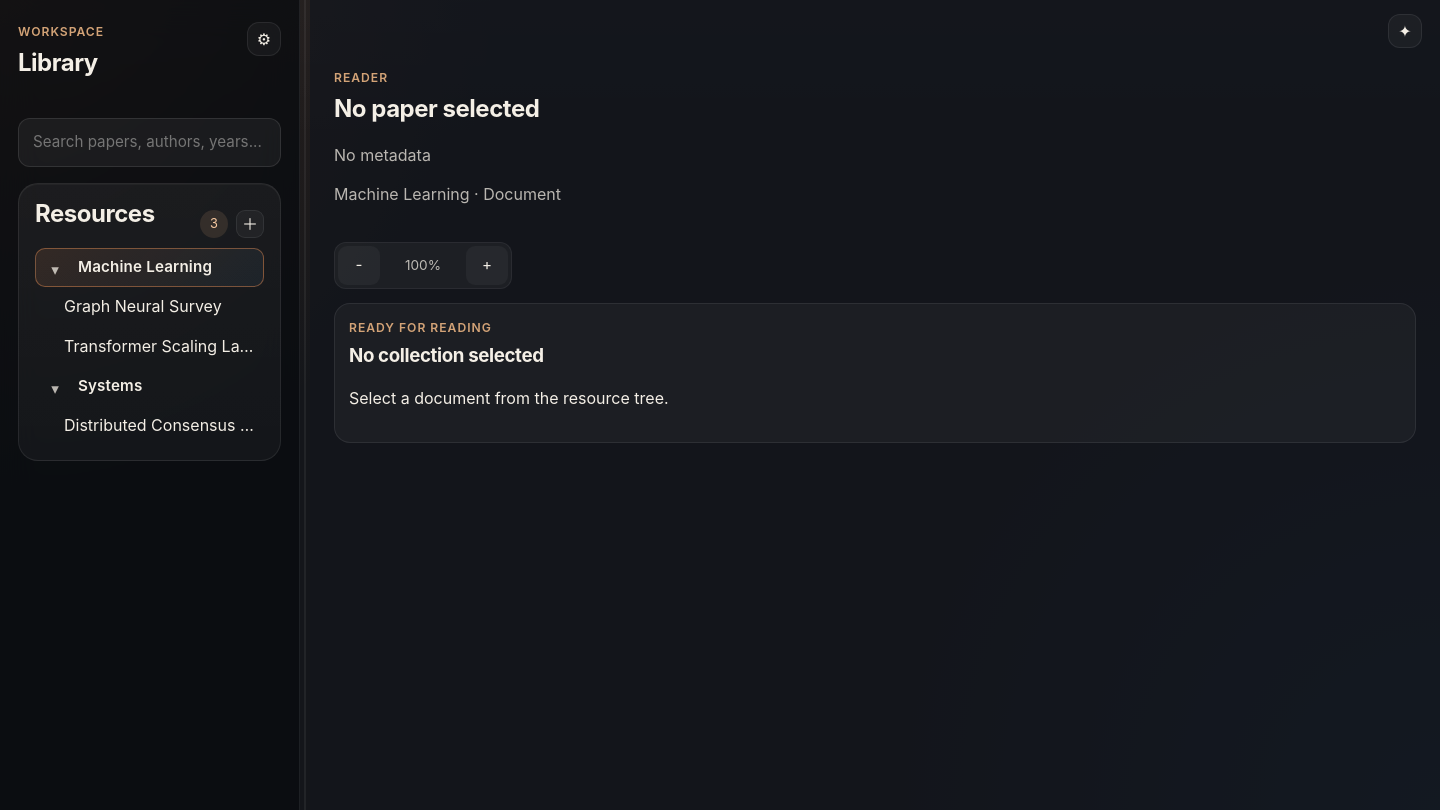
Test case: App reading workspace › renders quick actions in the dock and appends them to the AI chat history
Click the list item "Transformer Scaling Laws".
click(150, 346)  # box [35,327,264,365]
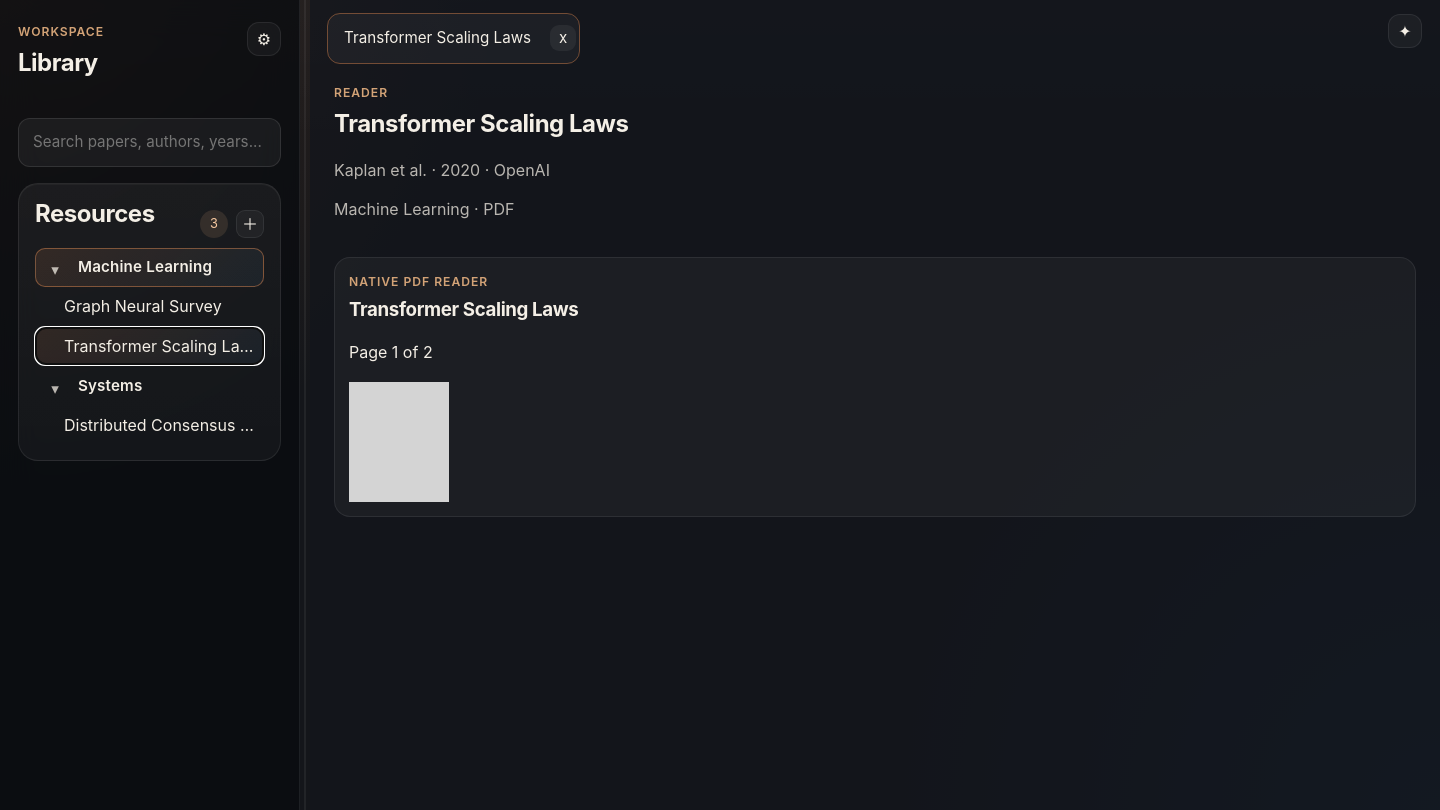
Click the button named "Open AI panel".
click(1405, 31)  # box [1388,14,1422,48]
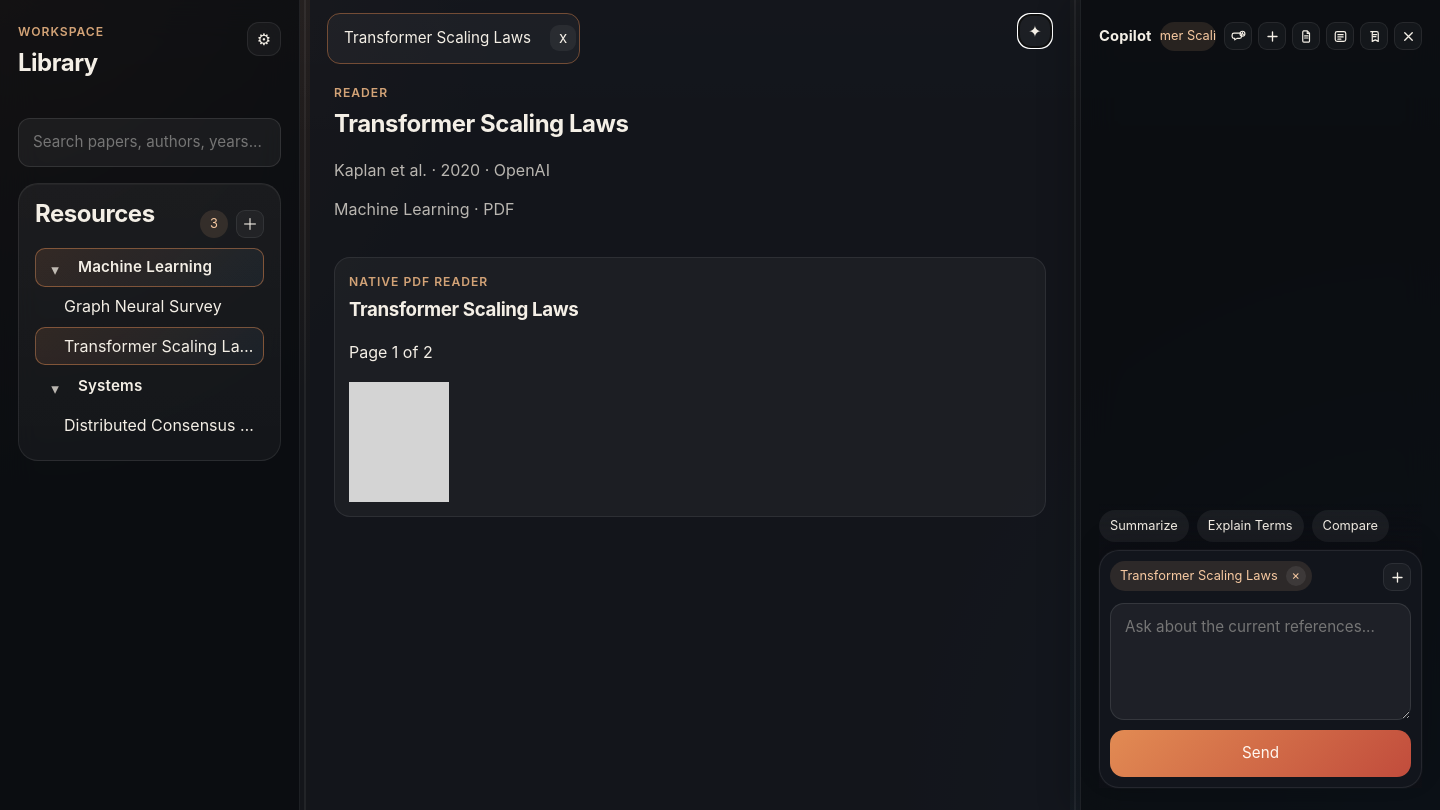
Check: the button "Summarize" is shown
Click the button "Summarize".
click(1144, 526)  # box [1099,510,1189,542]
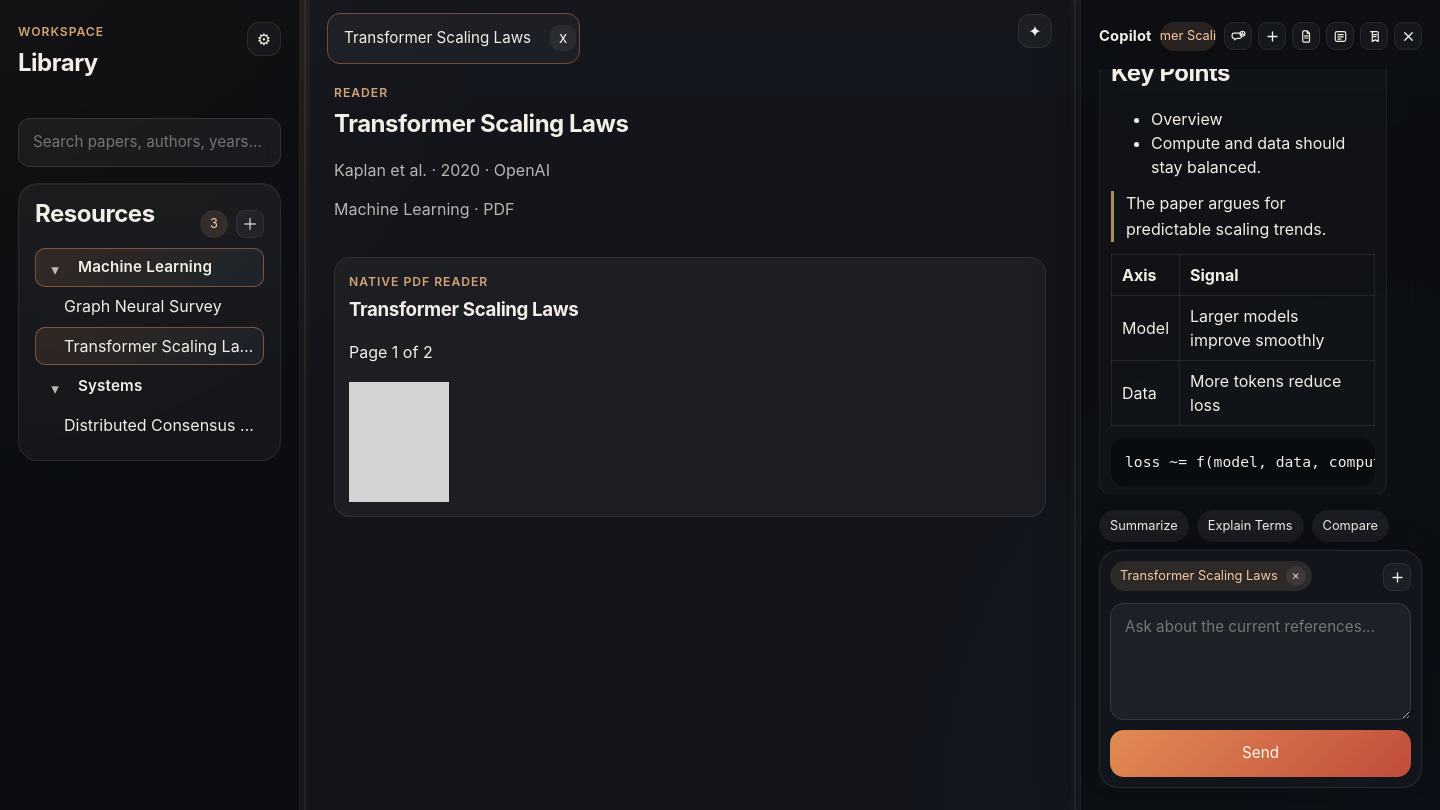
Check: the element with class "ai-quick-actions" is shown, box [1099,510,1422,542]
Check: the heading "Key Points" is shown, box [1111,68,1230,87]
Check: the text "The paper argues for predictable scaling trends." is shown, box [1126,193,1326,239]
